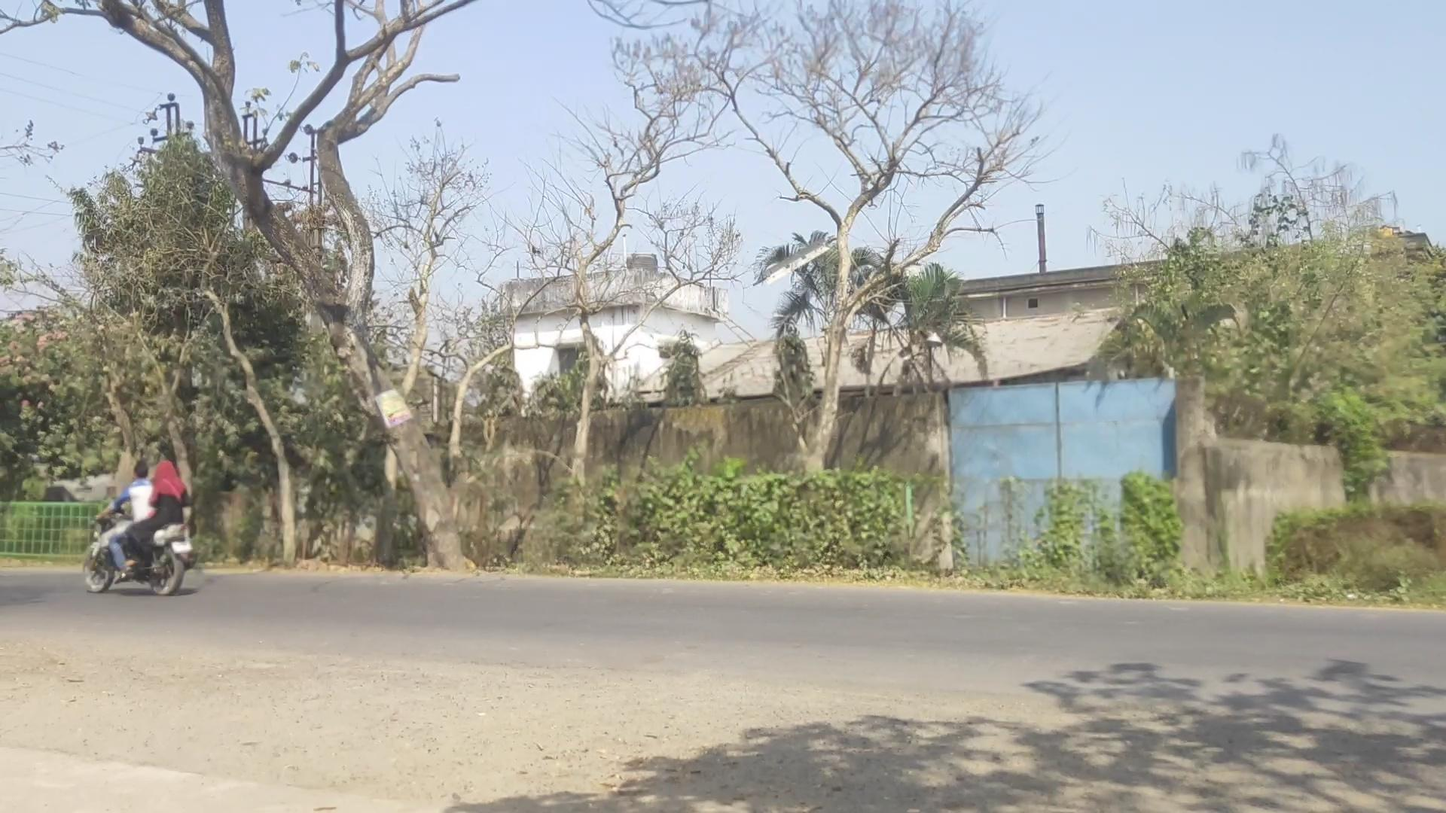bike: (83, 459, 194, 595)
